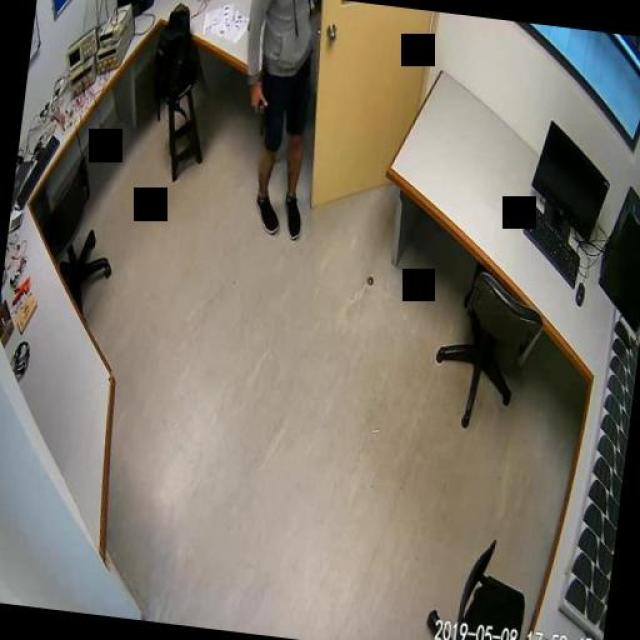gun: (246, 88, 269, 138)
